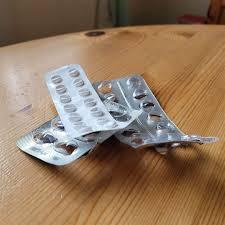pill_Strip: (17, 75, 217, 164), (94, 75, 217, 147), (45, 64, 139, 137), (17, 116, 115, 165), (116, 76, 183, 142), (108, 75, 169, 146), (17, 117, 96, 165), (103, 99, 140, 121), (84, 98, 96, 107), (64, 104, 76, 112), (56, 85, 66, 93)
